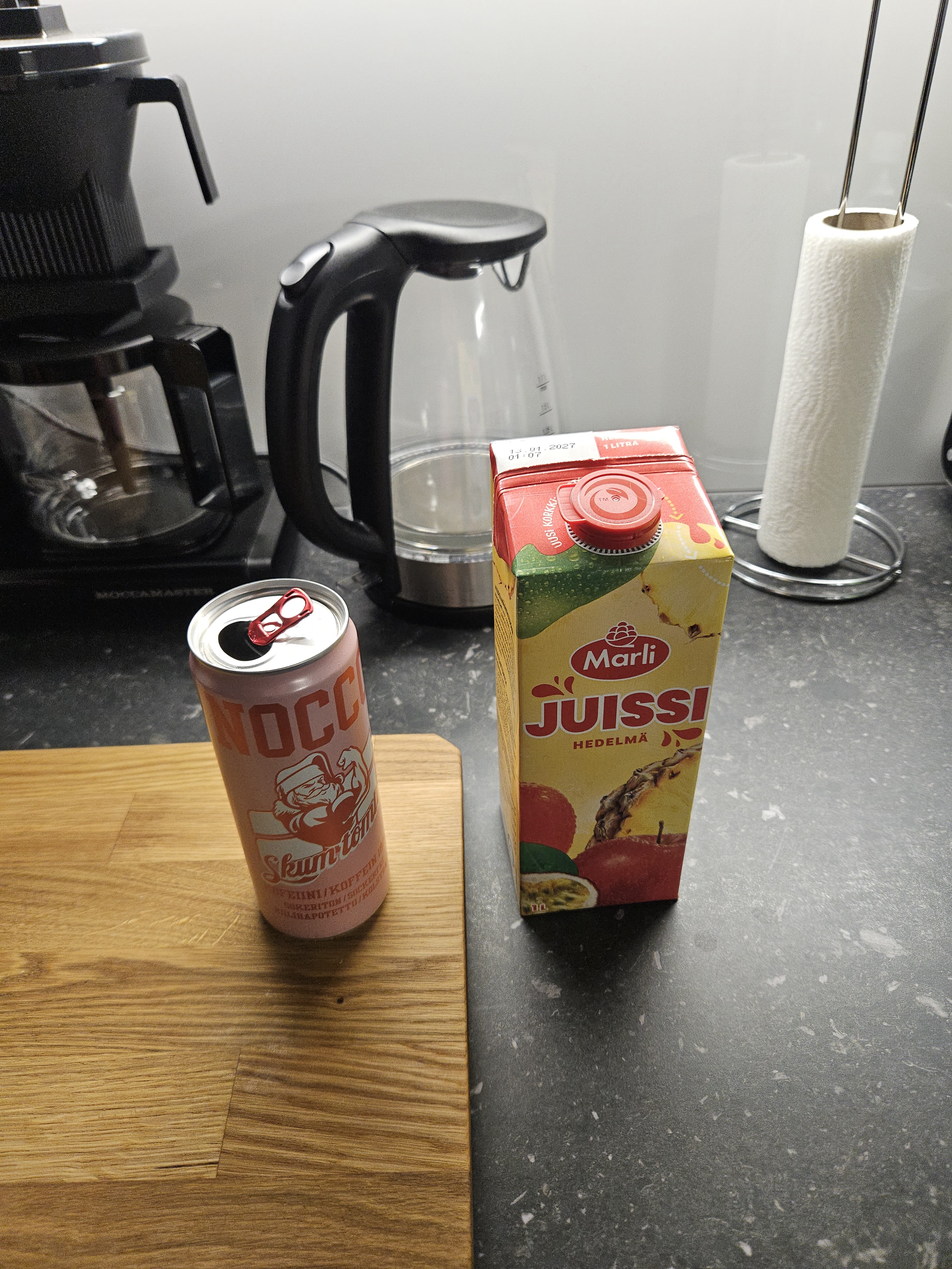Dryckeskartong: (476, 425, 738, 922)
Pantburk: (169, 570, 408, 953)
